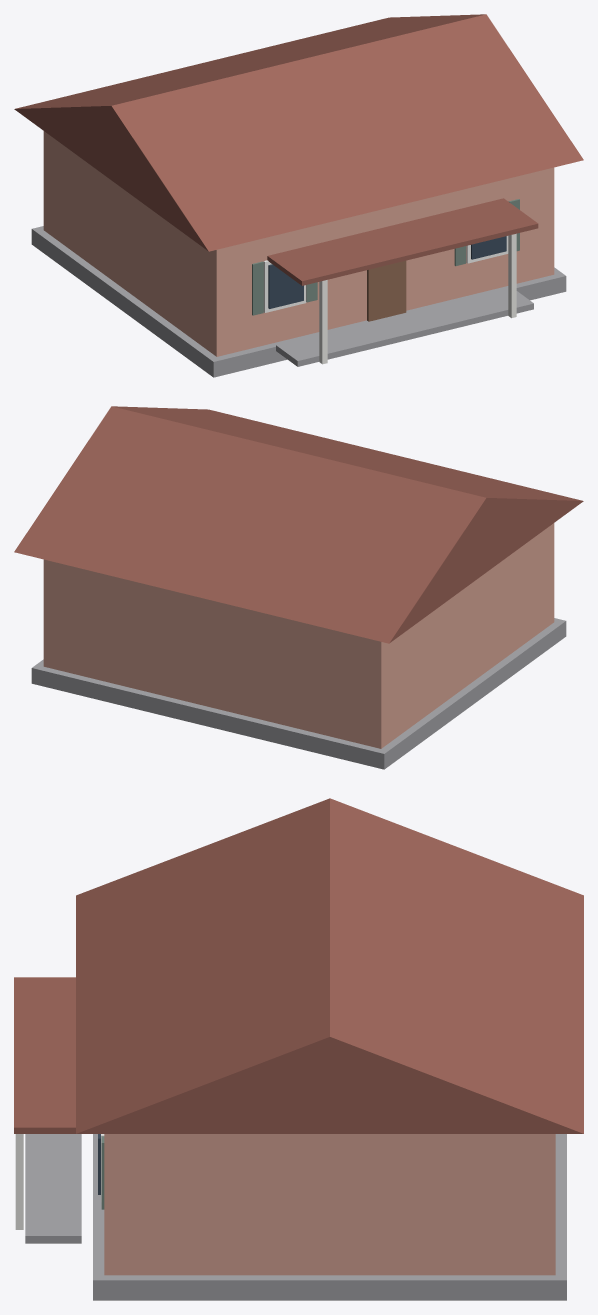
Rendered from house2.glb.
3 renders of one model, top to bottom at view 1: azimuth 30°, elevation 25°; view 2: azimuth 150°, elevation 25°; view 3: azimuth 270°, elevation 25°, orthographic. The views are drawn at different scales.
Parts seen in each view (by area): view 1: House2; view 2: House2; view 3: House2.
Boxes of the visible parts, box(x1,y1,x2,y2) form: House2: box(14, 14, 583, 377); House2: box(14, 406, 583, 769); House2: box(14, 798, 583, 1300).
Bounding box in the file's own units: 10 × 5.3 × 10.1.
